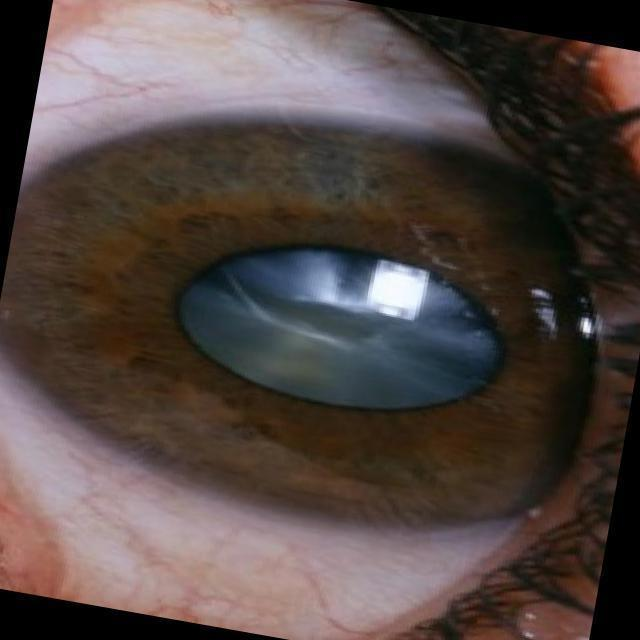Cataract: (114, 142, 590, 502)
